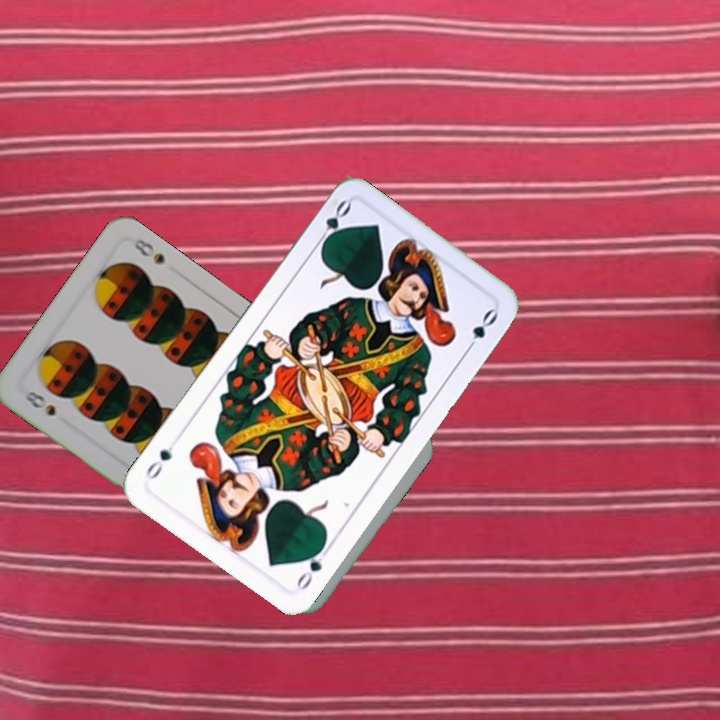GO: (311, 196, 354, 252), (292, 538, 329, 593)
S8: (17, 387, 59, 419)
